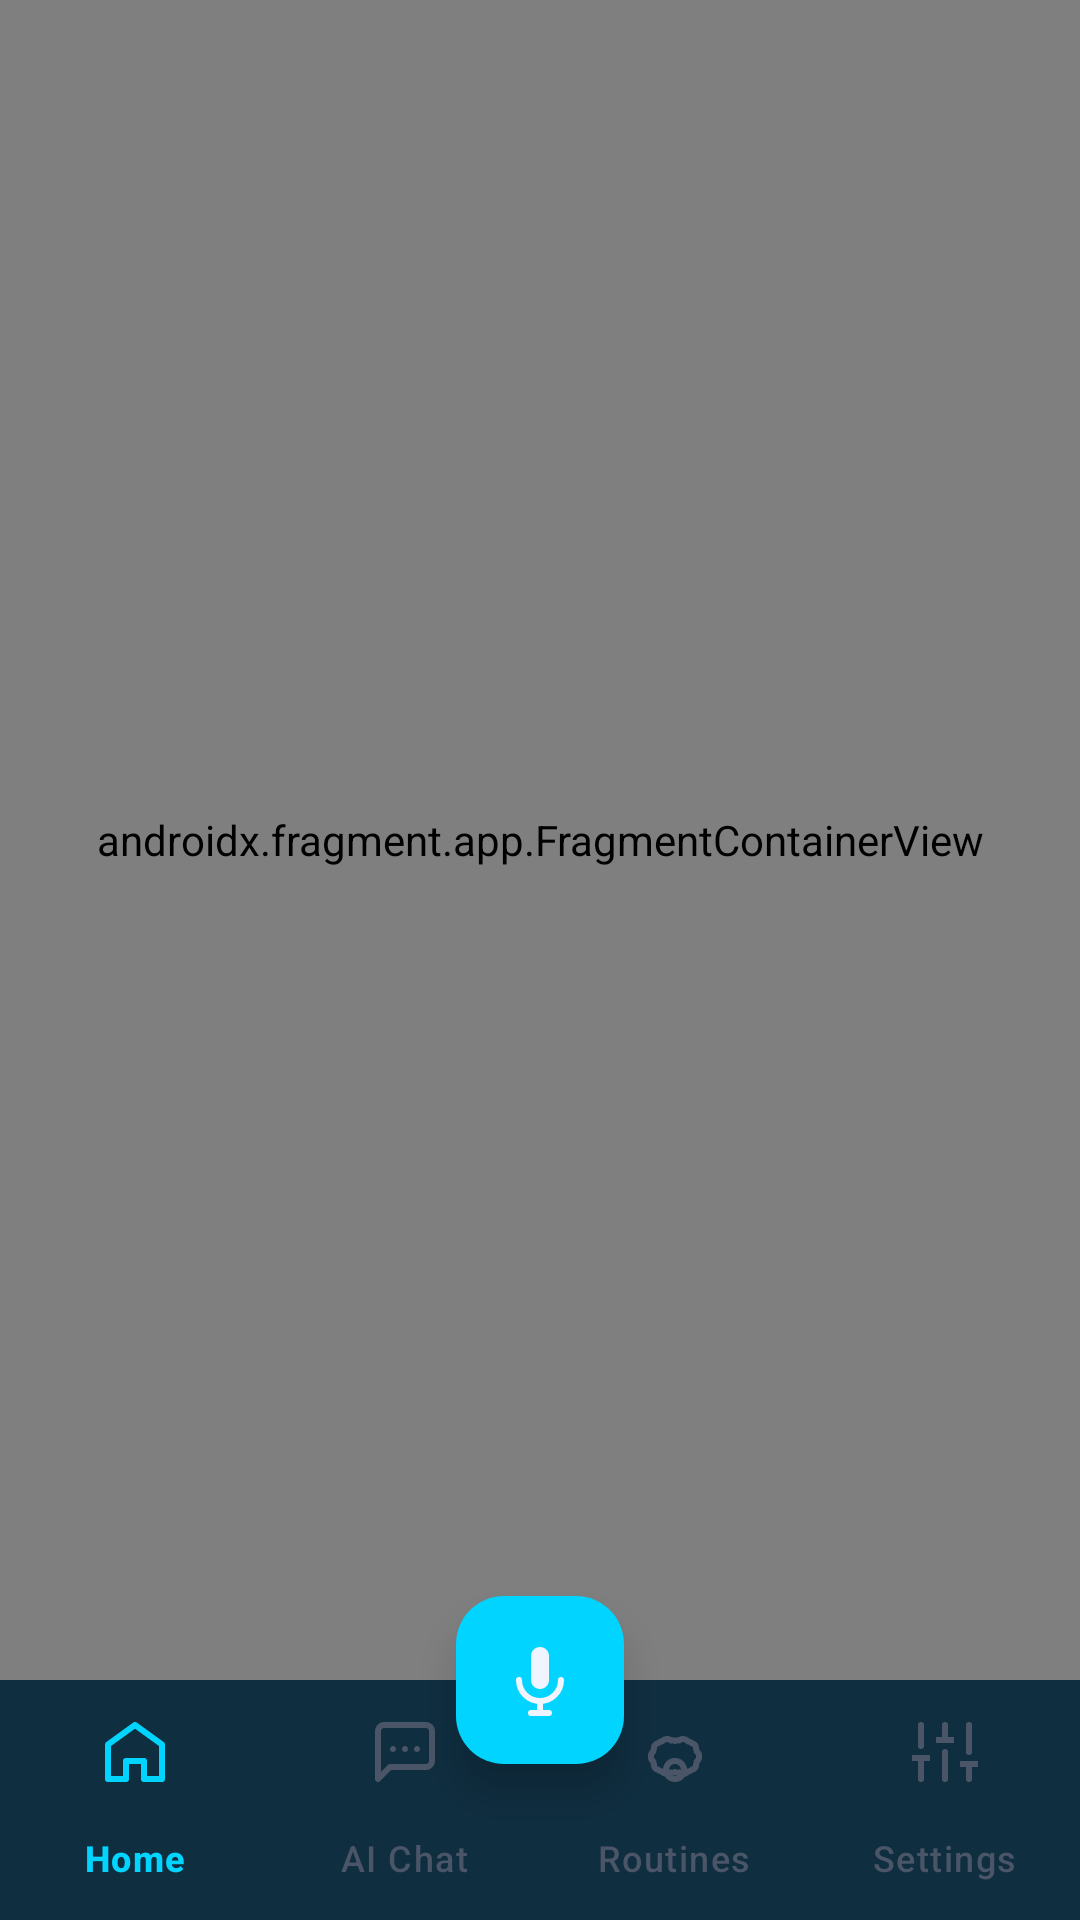

Named icons in this screenshot (1080px x 1920px) and their centers, (x=x, y=y):
mic: (x=540, y=1680)
